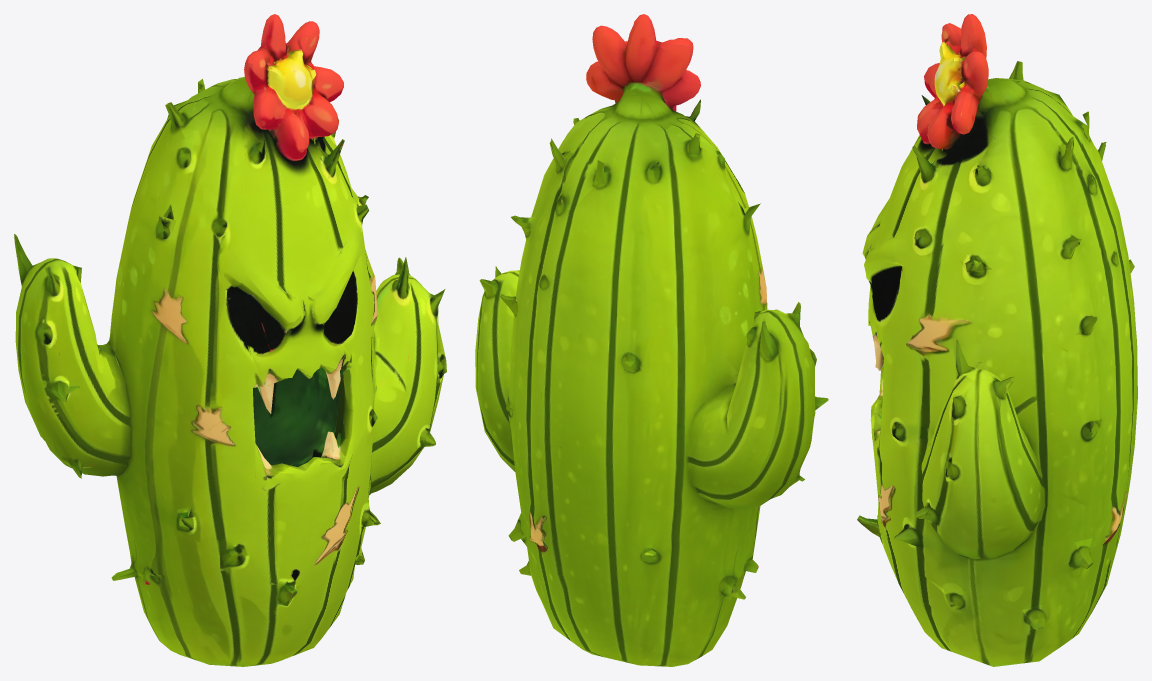
Rendered from cactus.glb.
3 views of the same model, side by side, from view 1: azimuth 30°, elevation 25°; view 2: azimuth 150°, elevation 25°; view 3: azimuth 270°, elevation 25° (orthographic). The views are drawn at different scales.
Visible parts, largest first — view 1: Mesh0; view 2: Mesh0; view 3: Mesh0.
Part boxes in pixels (left/top/right/bottom): Mesh0: left=14, top=14, right=446, bottom=666; Mesh0: left=475, top=14, right=828, bottom=666; Mesh0: left=857, top=14, right=1137, bottom=666.
Size of the model in its own units: 1.18 by 1.9 by 0.7643.
Materials: 1 (1 with a texture image).
